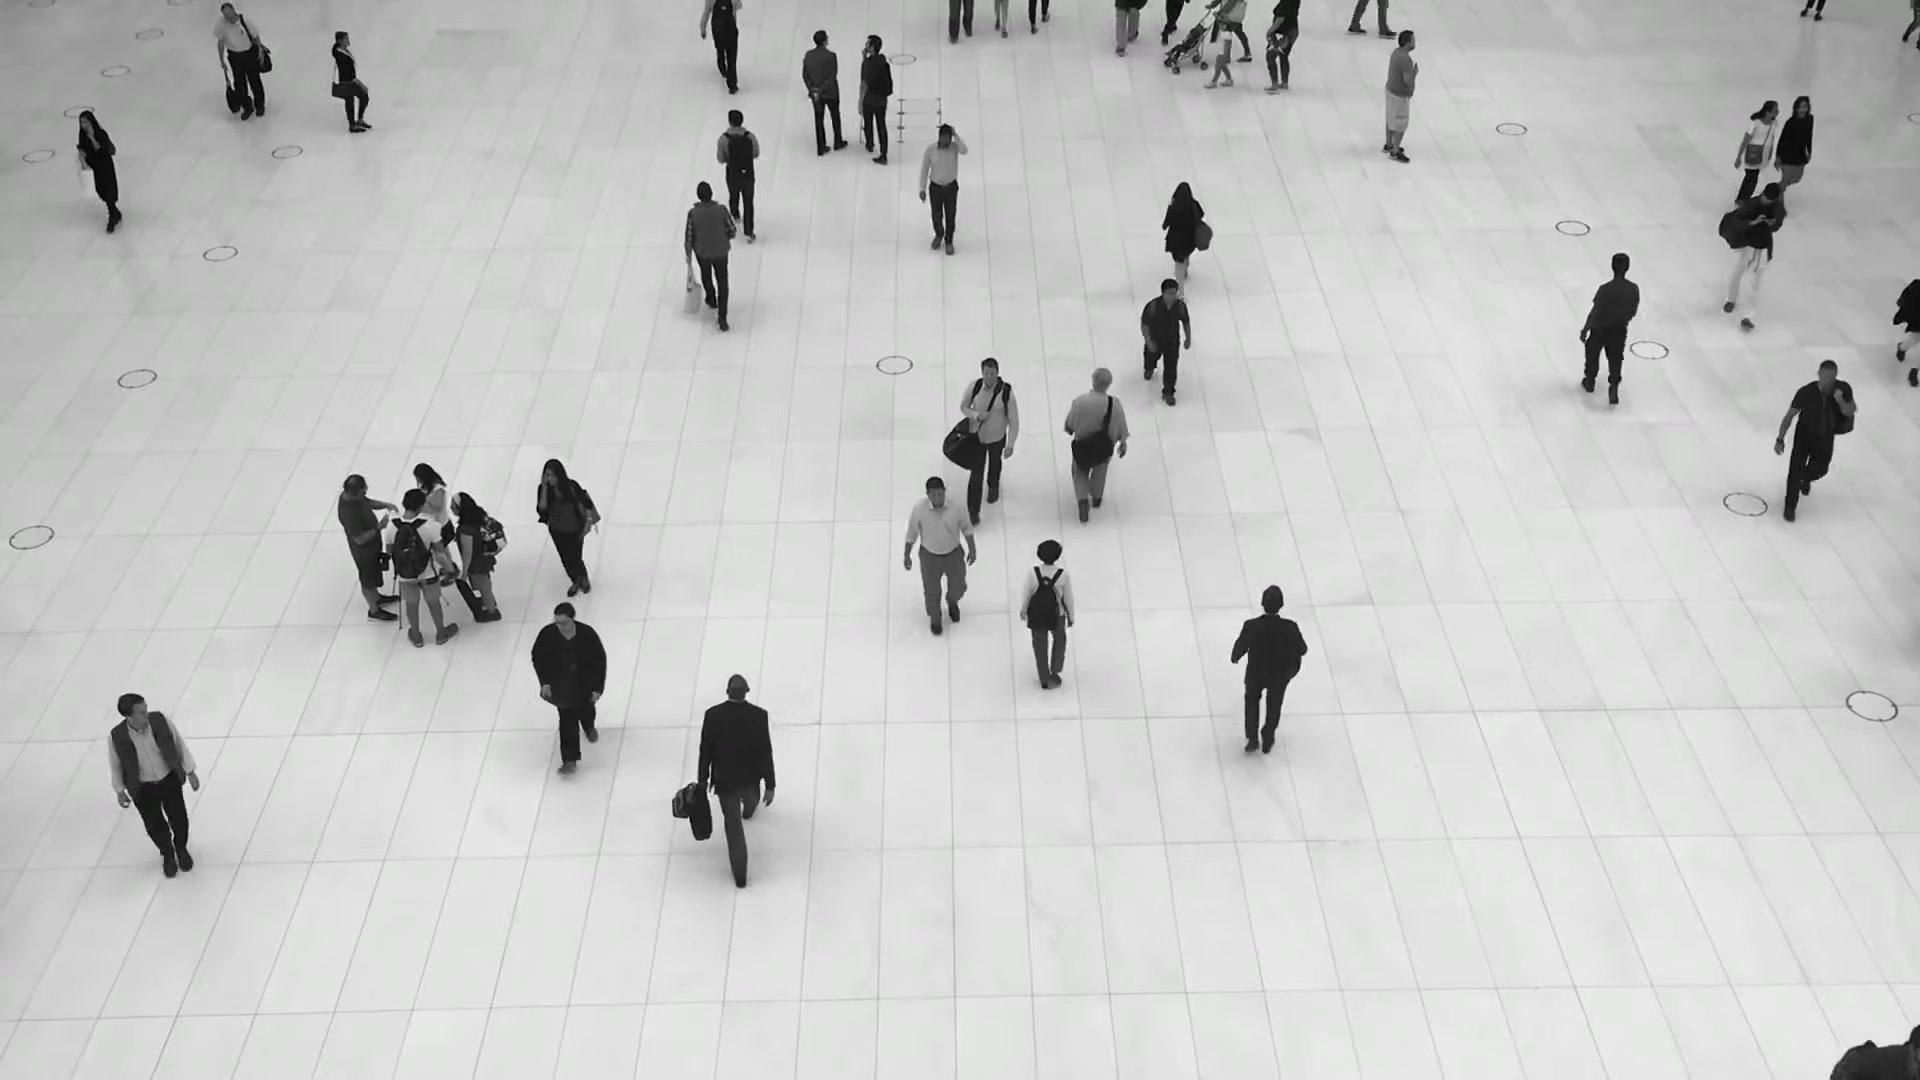person: (105, 694, 201, 897), (696, 674, 779, 881), (1224, 588, 1306, 769), (529, 602, 609, 776), (1777, 357, 1857, 518), (905, 474, 977, 642), (383, 487, 458, 648), (1060, 367, 1128, 519), (959, 357, 1018, 526), (536, 458, 601, 606), (337, 472, 400, 625), (1719, 182, 1784, 328), (1578, 252, 1641, 402), (1019, 542, 1074, 704), (683, 178, 736, 324), (449, 490, 502, 622), (211, 1, 266, 122), (915, 122, 965, 256), (1138, 274, 1191, 398), (327, 31, 389, 133), (1160, 180, 1214, 291), (715, 110, 761, 239), (411, 461, 459, 586), (76, 109, 124, 232), (801, 29, 845, 157), (1726, 100, 1777, 204), (1382, 27, 1420, 162), (856, 33, 893, 163), (1772, 94, 1813, 204), (699, 0, 745, 94), (1256, 0, 1300, 92), (1207, 19, 1233, 88)
